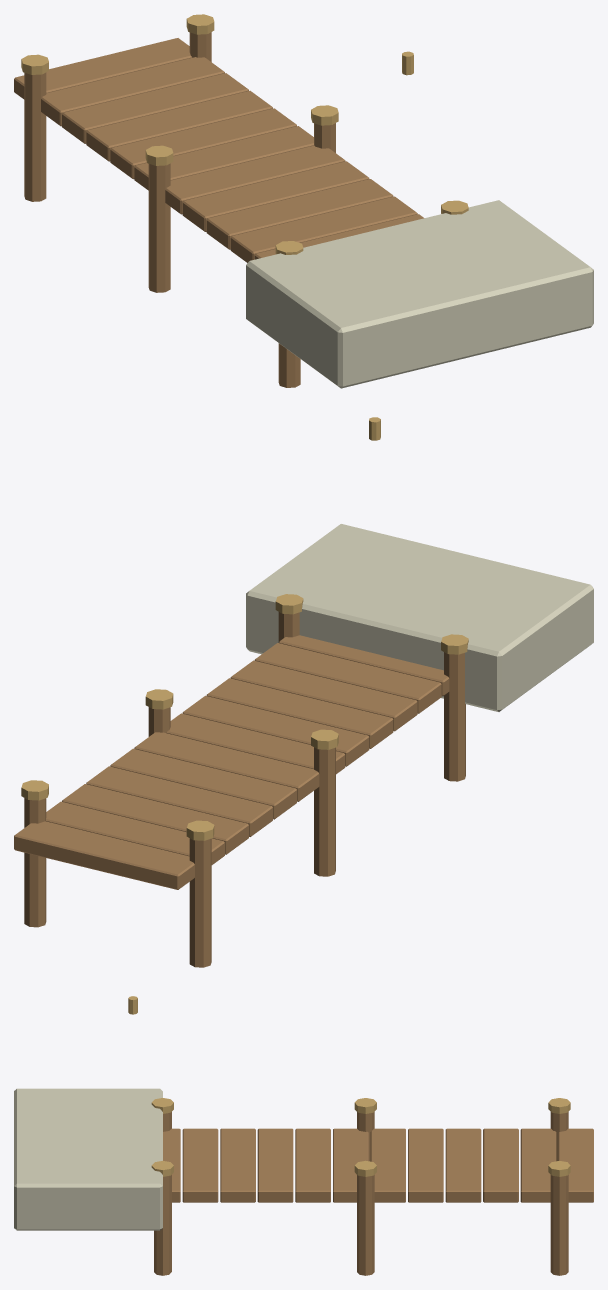
The model's file is level_01.glb.
3 views of the same model, one above another, from view 1: azimuth 30°, elevation 25°; view 2: azimuth 150°, elevation 25°; view 3: azimuth 270°, elevation 25° (orthographic). The views are drawn at different scales.
Parts seen in each view (by area): view 1: dock — level 01; view 2: dock — level 01; view 3: dock — level 01.
Part boxes in pixels (left/top/right/bottom): dock — level 01: left=14, top=14, right=593, bottom=388; dock — level 01: left=14, top=417, right=593, bottom=967; dock — level 01: left=14, top=996, right=593, bottom=1275.
Size of the model in its own units: 3.1 by 3.69 by 7.79.
